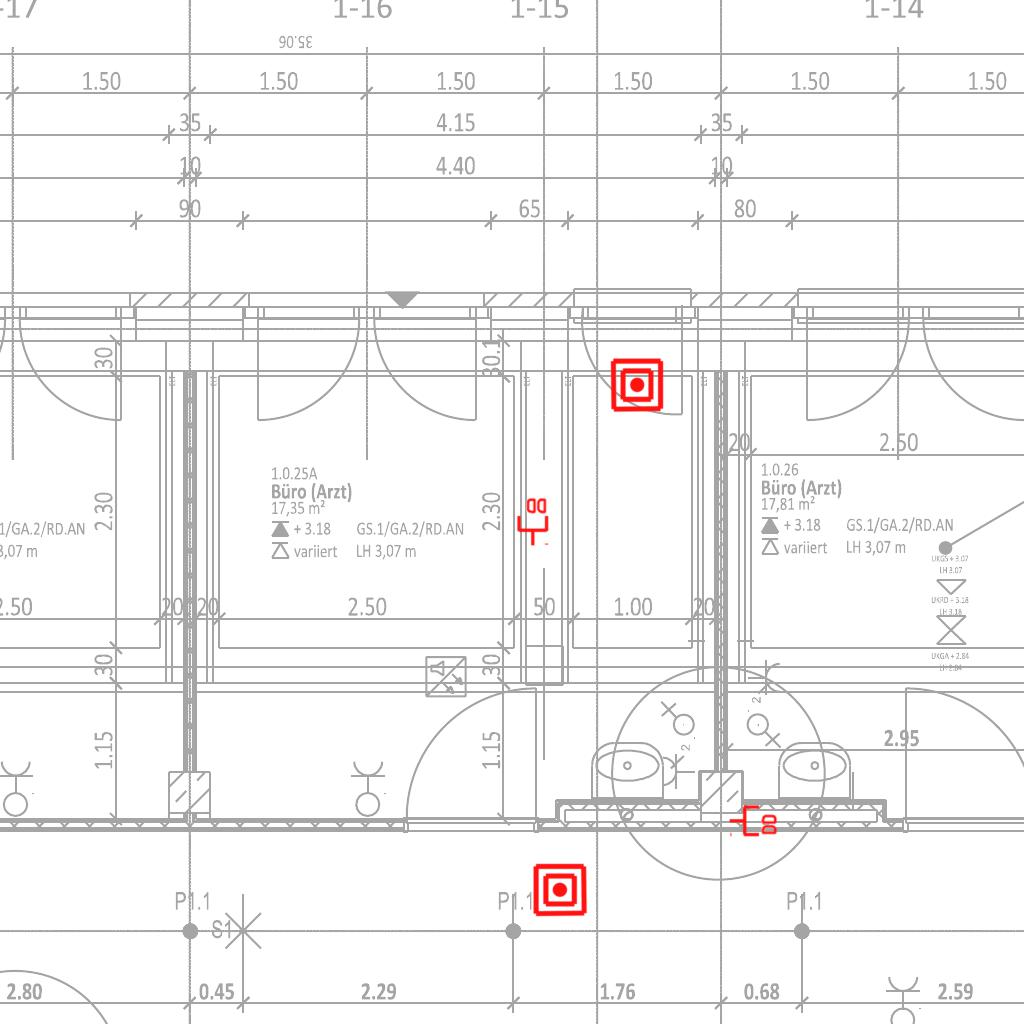Datenanschluss_zweifach: (515, 496, 549, 547), (728, 803, 779, 837)
NAM-Nichtautomatischer_Melder: (532, 862, 588, 918), (609, 357, 665, 413)
